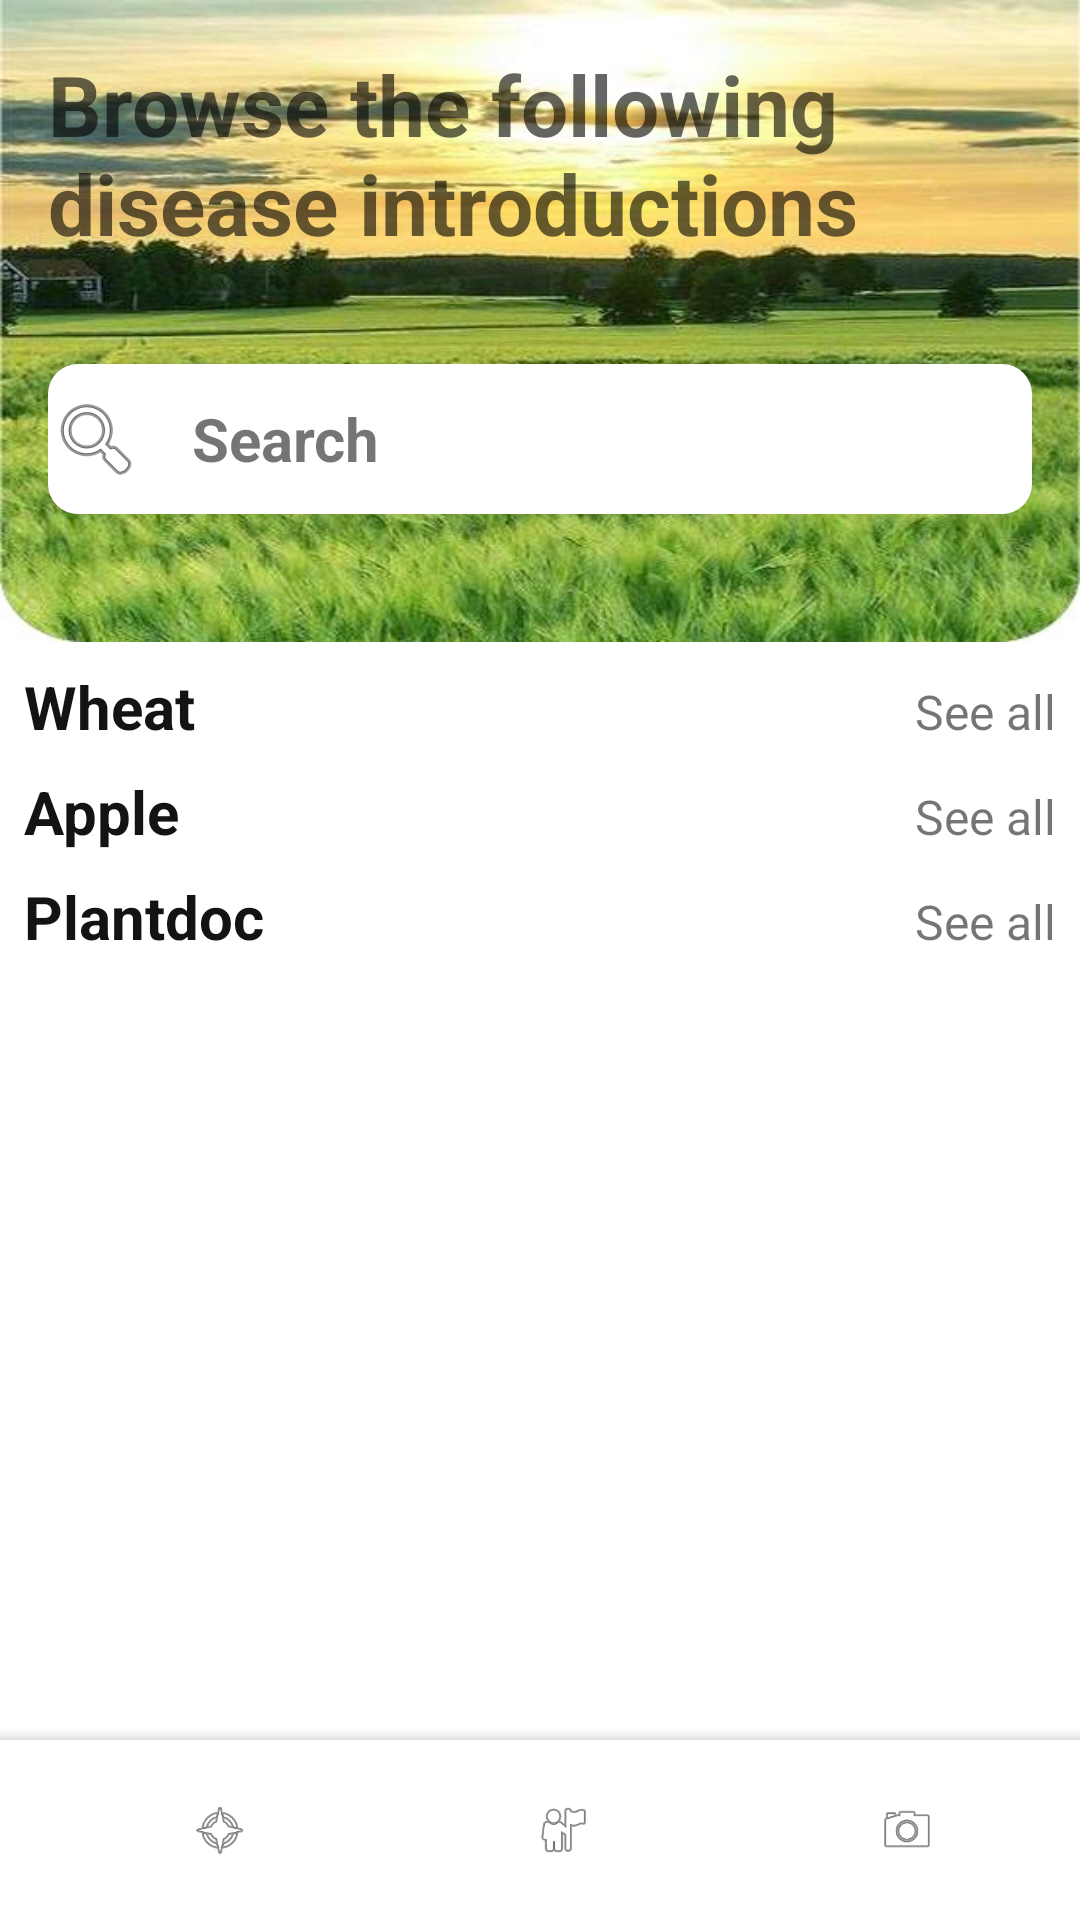

Screen size 1080px x 1920px. Icon name, then its box in pixels as (x1, y1, x2, y2):
camera: (884, 1811, 930, 1848)
compass: (196, 1807, 243, 1854)
myplaces: (541, 1808, 586, 1852)
